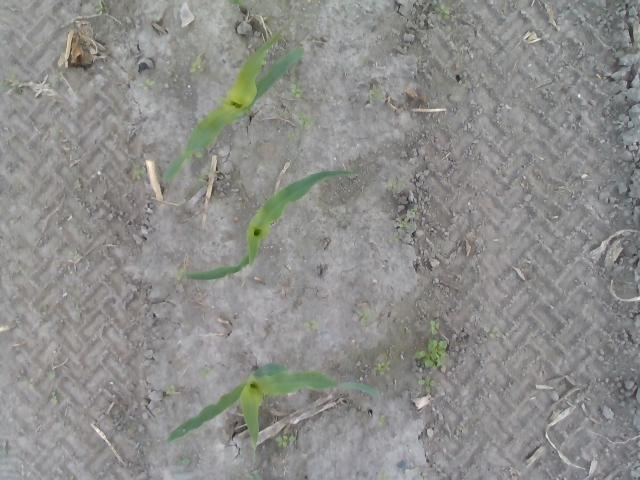Maize: (166, 360, 384, 471), (162, 28, 306, 185), (184, 169, 358, 283)
Weeds: (414, 338, 450, 372), (394, 208, 422, 240), (188, 54, 206, 76), (130, 162, 146, 183), (292, 112, 312, 128), (289, 81, 303, 102), (276, 434, 296, 448), (418, 378, 436, 393), (368, 89, 386, 103), (484, 326, 504, 338), (1, 75, 17, 90), (434, 4, 452, 17), (176, 456, 193, 469), (198, 169, 211, 186), (356, 310, 371, 324), (199, 365, 214, 379), (388, 179, 405, 191), (95, 1, 108, 16), (174, 267, 186, 282), (376, 360, 390, 372), (68, 252, 82, 264), (22, 380, 36, 392), (431, 319, 442, 334), (245, 471, 263, 480), (228, 0, 246, 9), (136, 80, 156, 88), (304, 320, 318, 330), (51, 73, 60, 88), (48, 393, 59, 405), (193, 150, 205, 161), (46, 369, 56, 378), (288, 132, 296, 143), (168, 386, 178, 394), (358, 56, 368, 64), (380, 414, 386, 424)
